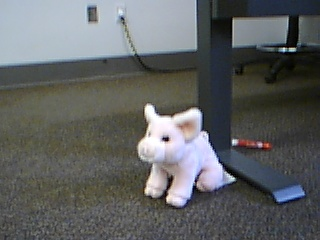piggy: (135, 101, 225, 209)
